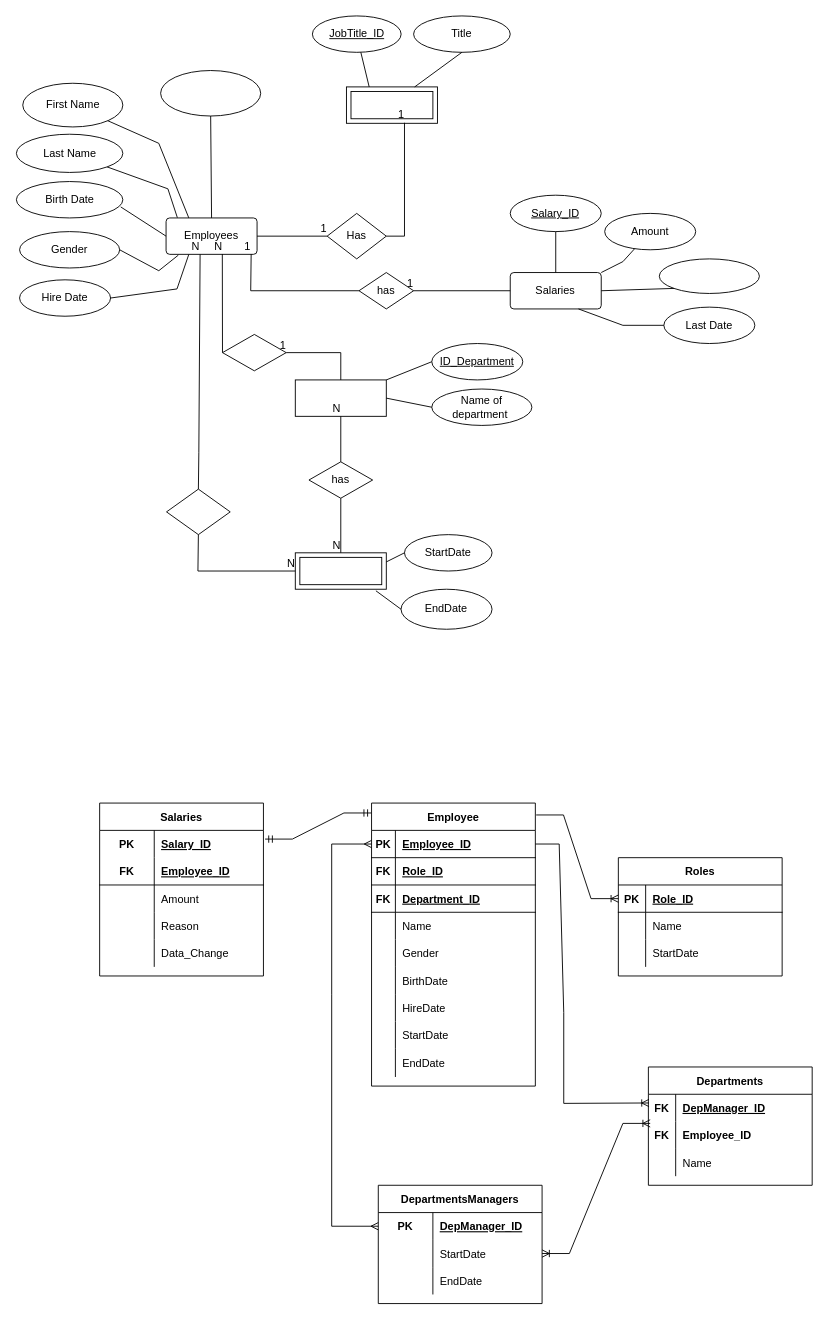
Image size: 828x1320. Some labels were removed from this diagram. The centre of each missing label's shape, as x and y in pixels:
Department: pixel 340 397
Department Manager: pixel 340 570
ID_Employee: pixel 210 93
JobTitles: pixel 391 104
Start Date: pixel 708 275
work: pixel 254 352
works: pixel 198 511
